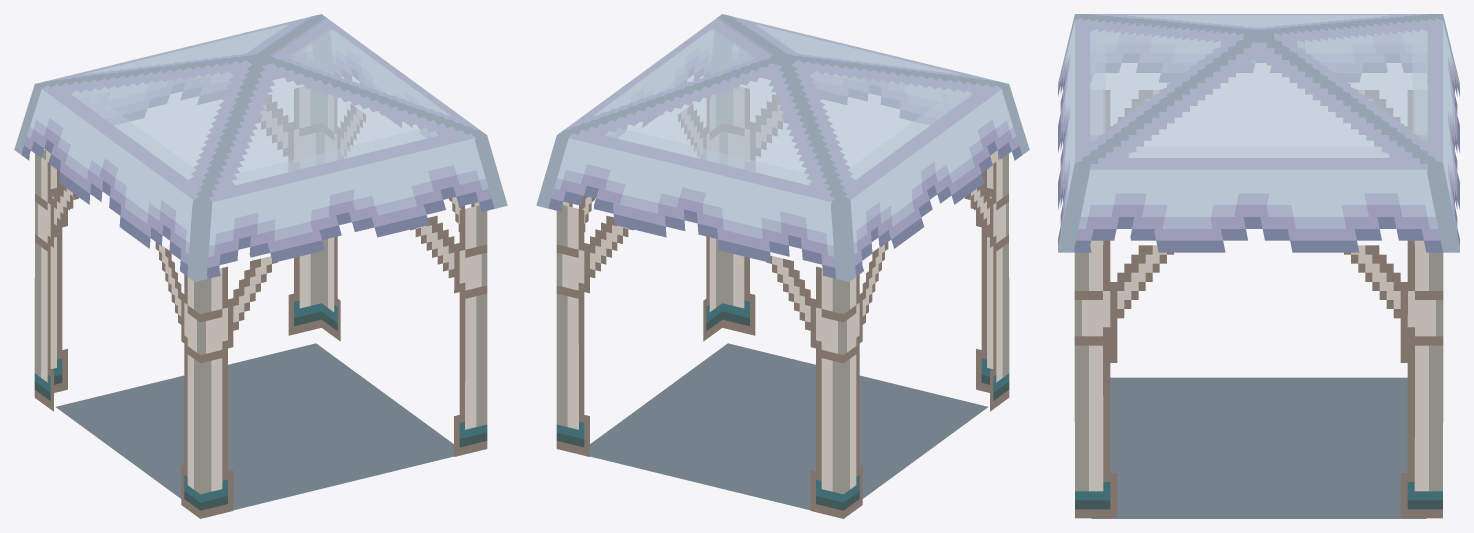
3 views of the same model, side by side, from view 1: azimuth 30°, elevation 25°; view 2: azimuth 150°, elevation 25°; view 3: azimuth 270°, elevation 25° (orthographic). The views are drawn at different scales.
Parts seen in each view (by area): view 1: 01_polygon0, 00_polygon1; view 2: 01_polygon0, 00_polygon1; view 3: 01_polygon0, 00_polygon1.
Boxes of the visible parts, x1,y1,x2,y2 form: 01_polygon0: (14,14,507,518); 00_polygon1: (56,343,453,510); 01_polygon0: (536,14,1029,518); 00_polygon1: (590,343,987,510); 01_polygon0: (1058,14,1459,518); 00_polygon1: (1091,377,1426,518).
Size of the model in its own units: 0.375 by 0.4297 by 0.375.
1 material, 1 textured.
